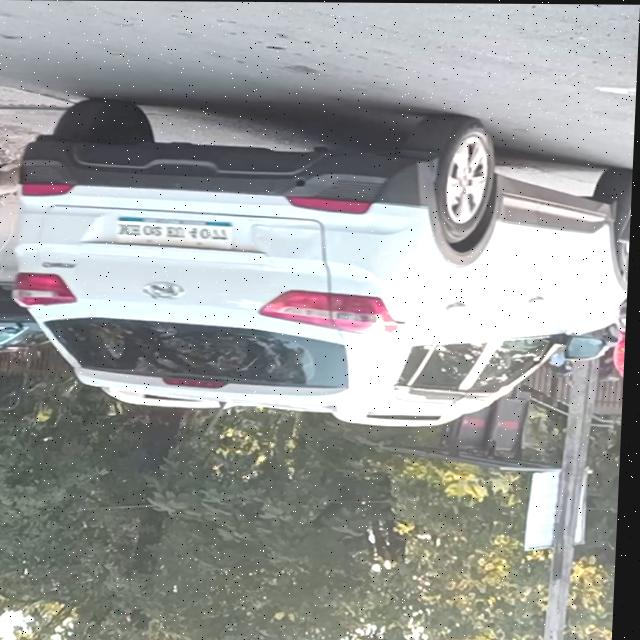plate: (116, 213, 238, 249)
